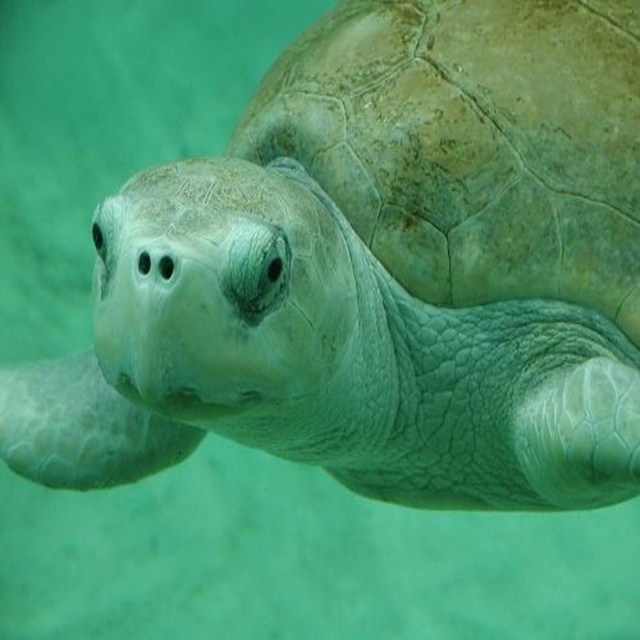Sea turtle: (1, 0, 640, 514)
